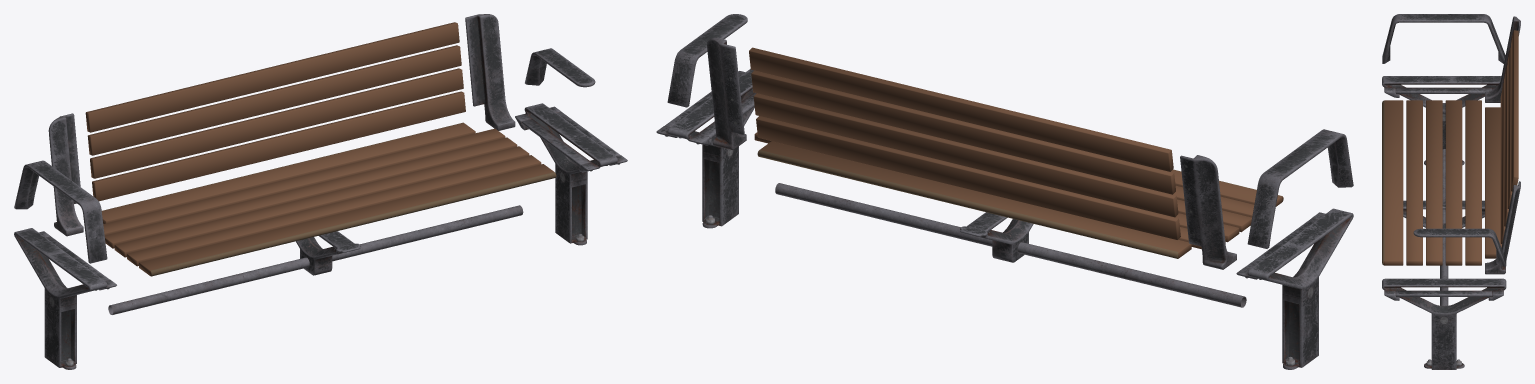
File: SM_MallBench01.fbx
3 renders of one model, left to right at view 1: azimuth 30°, elevation 25°; view 2: azimuth 150°, elevation 25°; view 3: azimuth 270°, elevation 25°, orthographic. The views are drawn at different scales.
Visible parts, largest first — view 1: SM_MallBench01; view 2: SM_MallBench01; view 3: SM_MallBench01.
Boxes of the visible parts, x1=… form: SM_MallBench01: x1=14, y1=14, x2=627, y2=369; SM_MallBench01: x1=656, y1=14, x2=1353, y2=369; SM_MallBench01: x1=1382, y1=14, x2=1520, y2=369.
Bounding box in the file's own units: 245 × 67.04 × 86.69.
